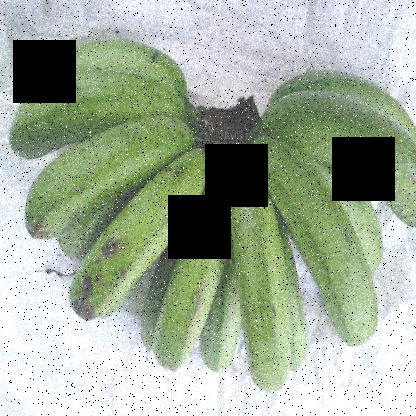rotten: (63, 222, 140, 329)
unripe: (243, 128, 380, 352), (146, 134, 254, 380), (61, 172, 200, 339), (272, 95, 416, 240), (10, 129, 172, 241), (7, 71, 176, 161), (229, 161, 291, 399)
